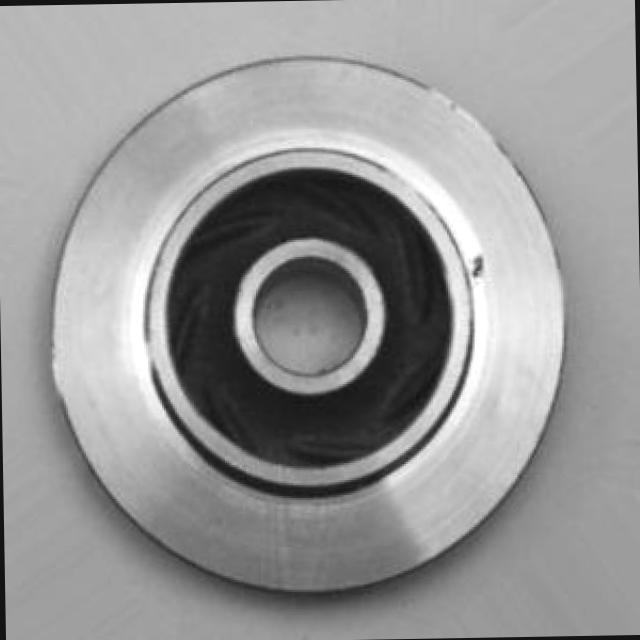Defect: (463, 240, 499, 294)
